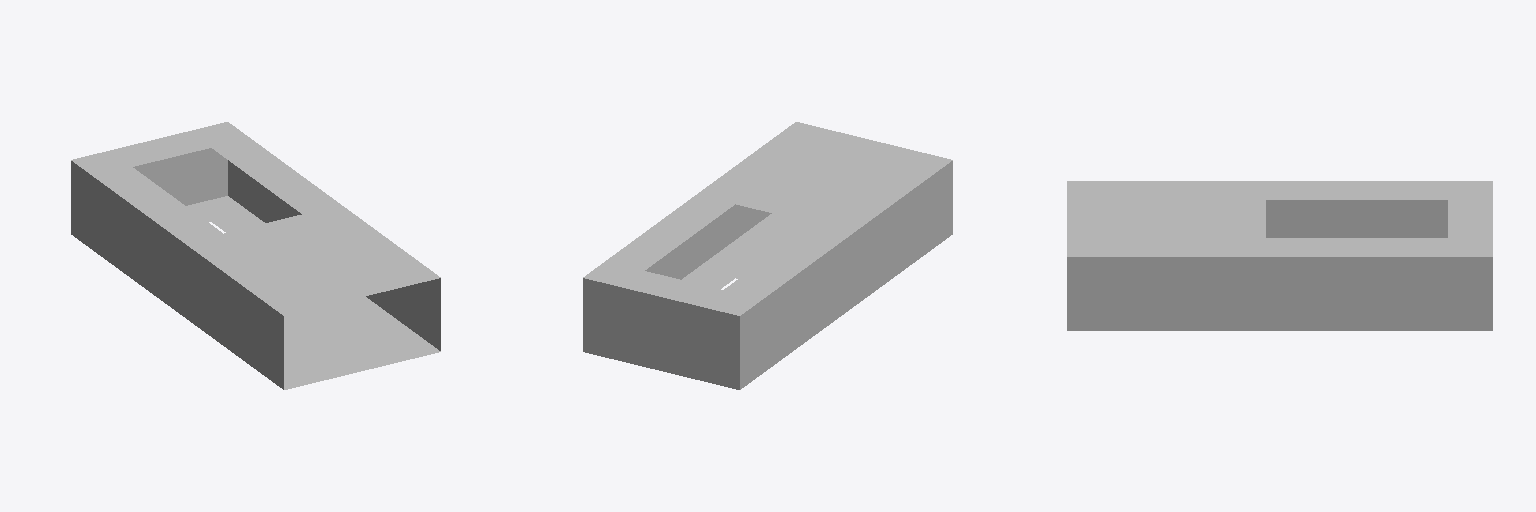
The model's file is original-17.obj.
3 views of the same model, side by side, from view 1: azimuth 30°, elevation 25°; view 2: azimuth 150°, elevation 25°; view 3: azimuth 270°, elevation 25° (orthographic).
Parts seen in each view (by area): view 1: #ID70; view 2: #ID70; view 3: #ID70.
Boxes of the visible parts, x1=… form: #ID70: x1=71, y1=122, x2=440, y2=389; #ID70: x1=583, y1=122, x2=952, y2=389; #ID70: x1=1067, y1=181, x2=1492, y2=330.
Size of the model in its own units: 0.094 by 0.0423 by 0.221.